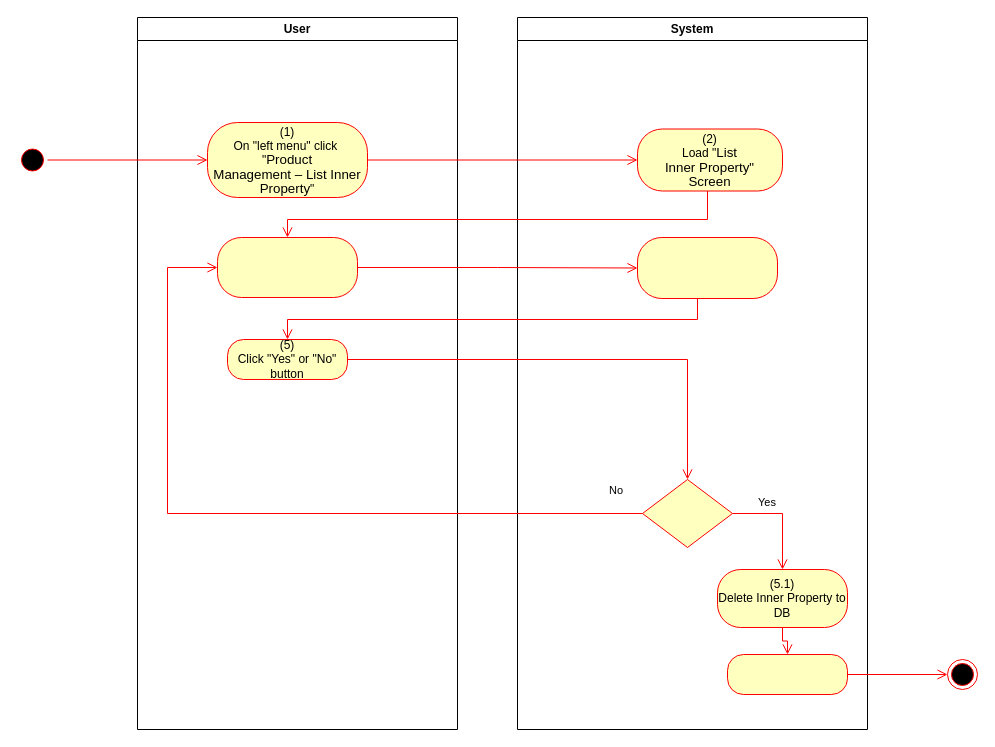
Some shapes in this 995 by 747 pixel diagram are drawn without their labels. The centre of each missing label's shape, as x and y in pixels:
(3) Click button "Xóa" trên 1 item thuộc tính nội sản phẩm bất kỳ: pixel 287 267
(4) Load " Yes/No dialog": pixel 707 267
(6) Update UI: pixel 787 674
